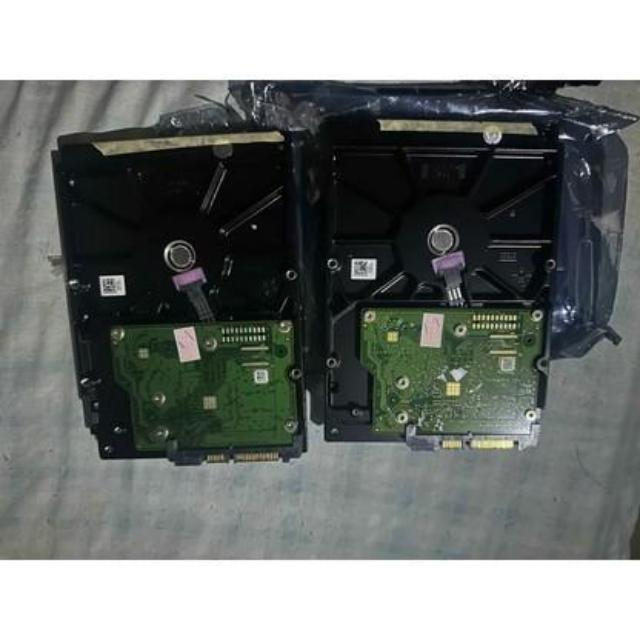DISK: (60, 126, 311, 472), (310, 115, 552, 463)
